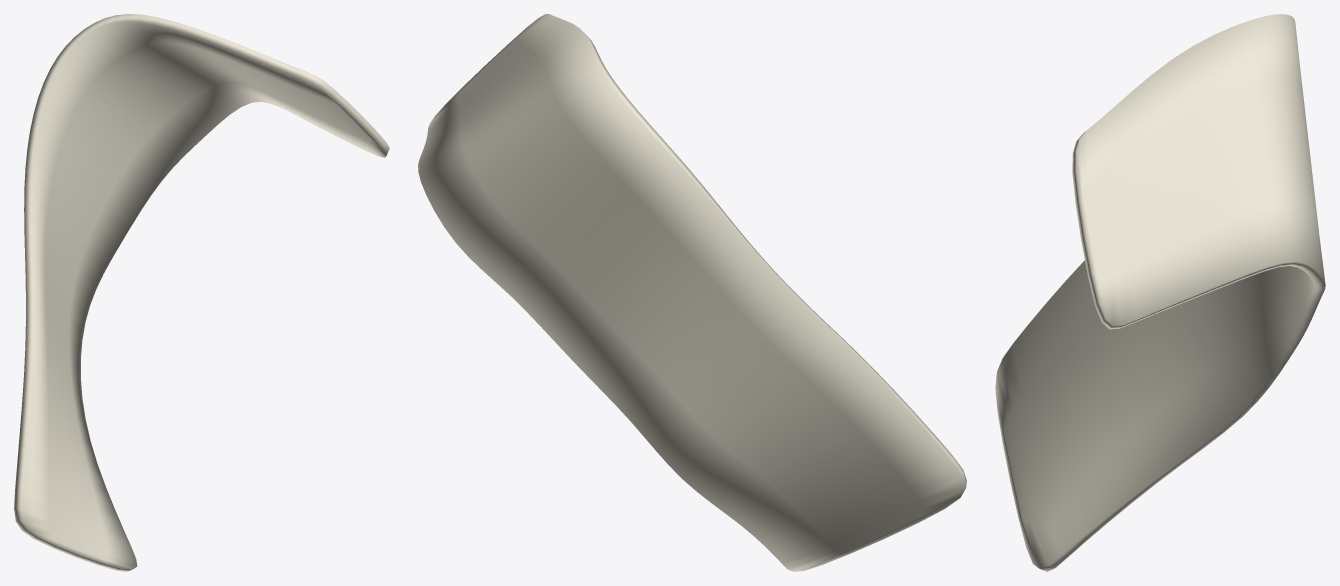
3 renders of one model, left to right at view 1: azimuth 30°, elevation 25°; view 2: azimuth 150°, elevation 25°; view 3: azimuth 270°, elevation 25°, orthographic. The views are drawn at different scales.
Parts seen in each view (by area): view 1: ZA_a3b5ea5cc1c09173; view 2: ZA_a3b5ea5cc1c09173; view 3: ZA_a3b5ea5cc1c09173.
Boxes of the visible parts, box(x1,y1,x2,y2) form: ZA_a3b5ea5cc1c09173: box(14, 14, 389, 571); ZA_a3b5ea5cc1c09173: box(418, 14, 966, 571); ZA_a3b5ea5cc1c09173: box(995, 14, 1325, 571).
Bounding box in the file's own units: 0.0274 × 0.03 × 0.0148.
